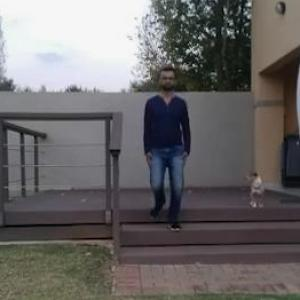follow: (140, 66, 182, 237)
